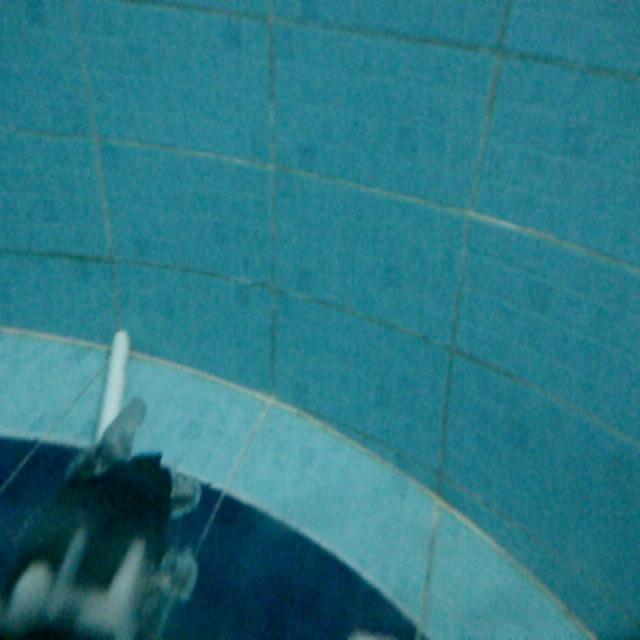Cube: (97, 329, 128, 424)
